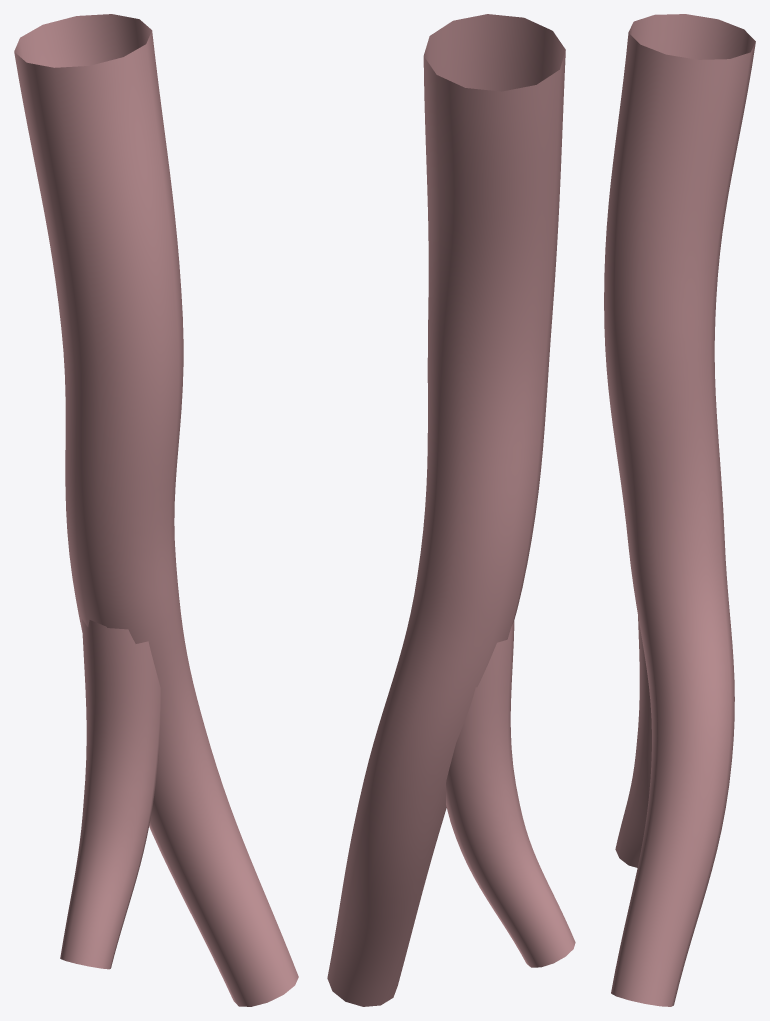
The picture shows the model from 3 angles, left to right: view 1: azimuth 30°, elevation 25°; view 2: azimuth 150°, elevation 25°; view 3: azimuth 270°, elevation 25°; orthographic projection. The views are drawn at different scales.
Visible parts, largest first — view 1: ZA_9888b02b8f5e0c34; view 2: ZA_9888b02b8f5e0c34; view 3: ZA_9888b02b8f5e0c34.
Boxes of the visible parts, bbox=[...] form: ZA_9888b02b8f5e0c34: bbox=[14, 14, 298, 1006]; ZA_9888b02b8f5e0c34: bbox=[327, 14, 575, 1006]; ZA_9888b02b8f5e0c34: bbox=[604, 14, 755, 1006].
Size of the model in its own units: 0.0162 by 0.0623 by 0.00942.
